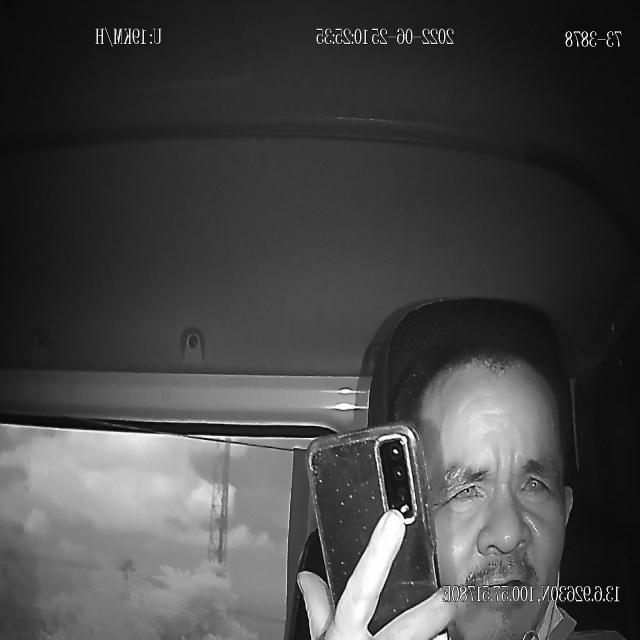phone: (307, 421, 449, 640)
